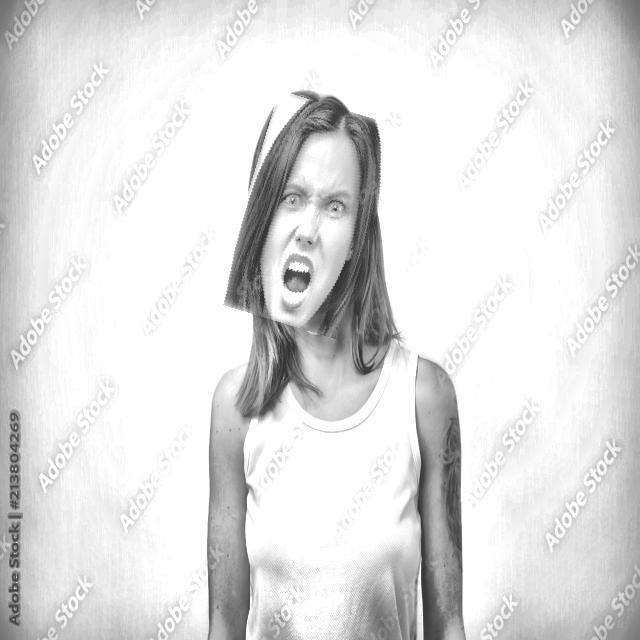angry: (229, 97, 388, 333)
